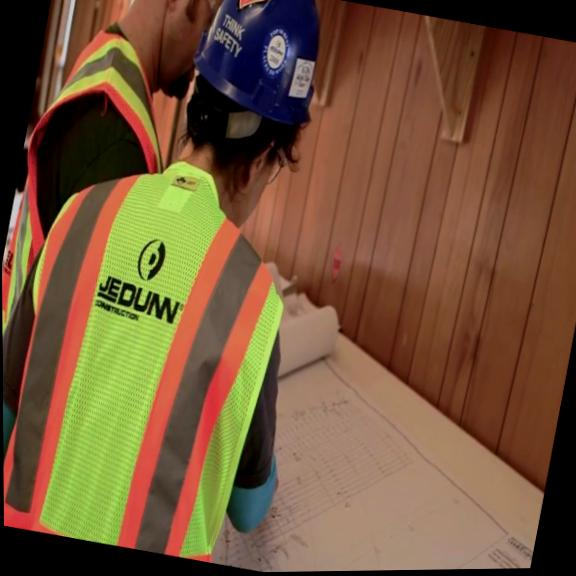safety_vest: (1, 132, 308, 570), (0, 11, 192, 426)
